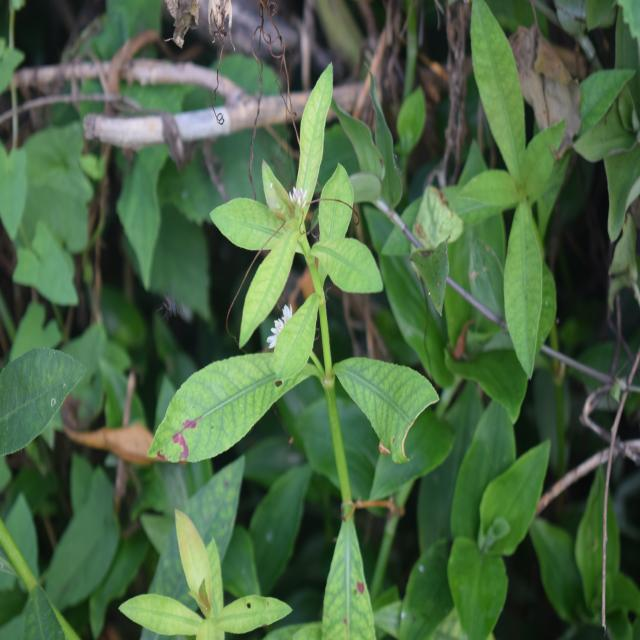Alligatorweed: (177, 106, 413, 513)
